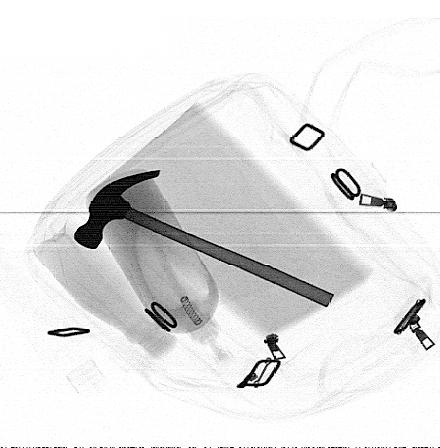Hammer: (72, 169, 336, 308)
